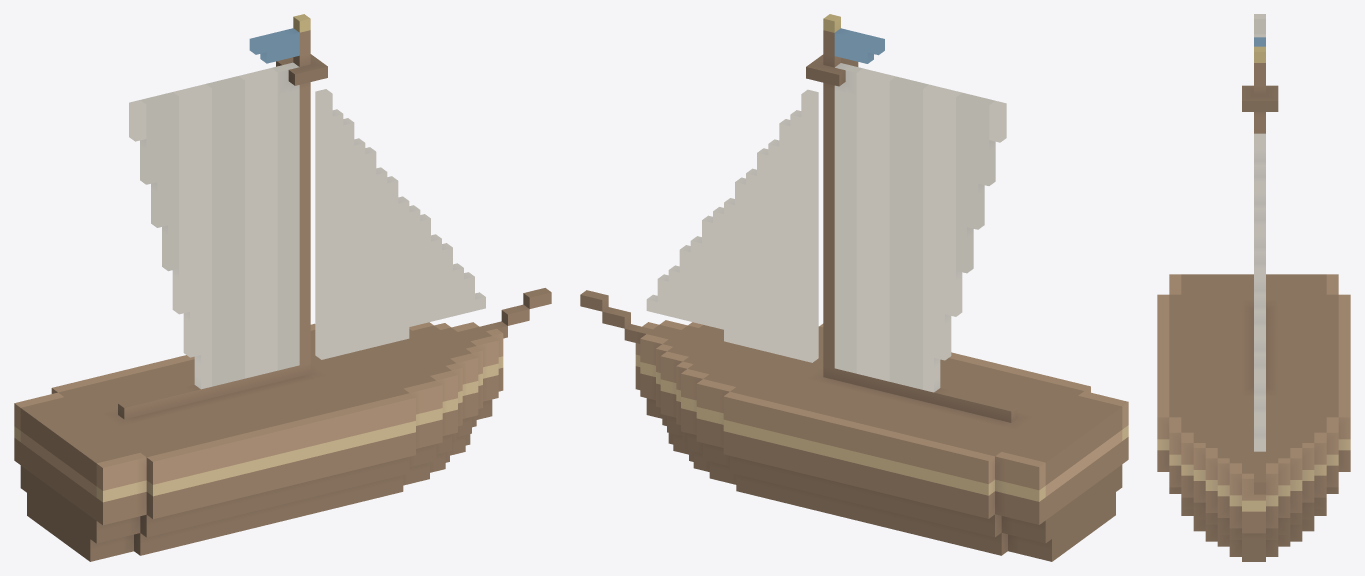
Rendered from sloop.glb.
3 renders of one model, left to right at view 1: azimuth 30°, elevation 25°; view 2: azimuth 150°, elevation 25°; view 3: azimuth 270°, elevation 25°, orthographic. The views are drawn at different scales.
Visible parts, largest first — view 1: sloop; view 2: sloop; view 3: sloop.
Part boxes in pixels (<box>): sloop: <box>14,14,551,561</box>; sloop: <box>580,14,1128,561</box>; sloop: <box>1157,14,1350,561</box>.
Size of the model in its own units: 2.25 by 2 by 0.8.
